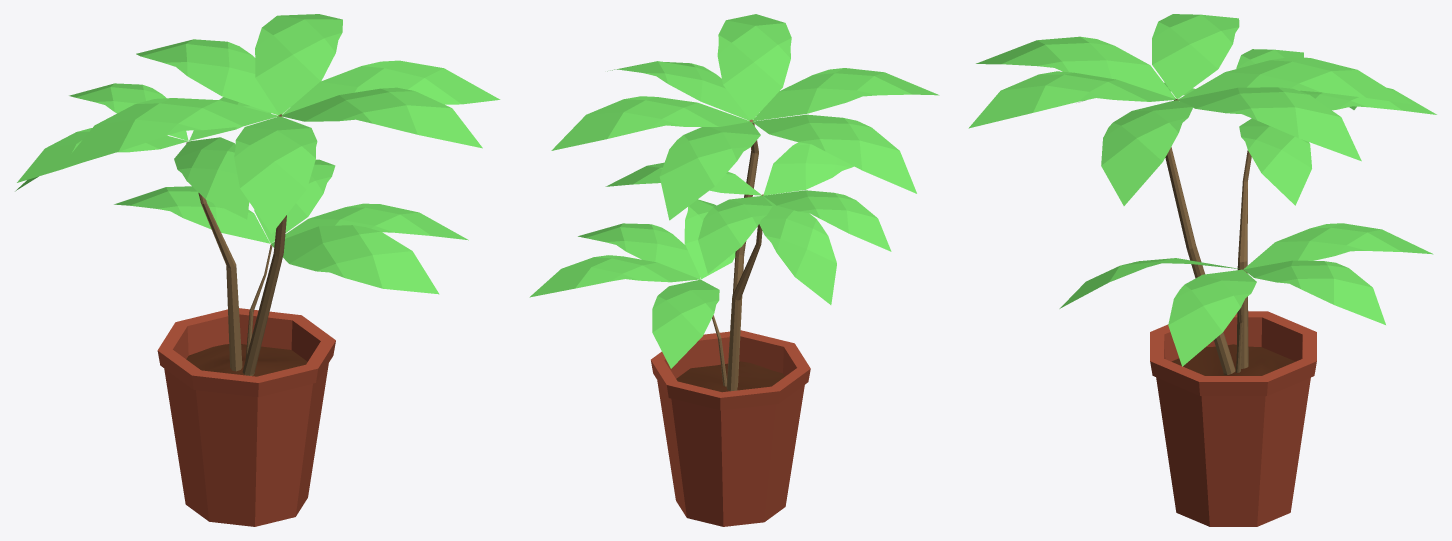
Rendered from Plant.glb.
The picture shows the model from 3 angles, left to right: view 1: azimuth 30°, elevation 25°; view 2: azimuth 150°, elevation 25°; view 3: azimuth 270°, elevation 25°; orthographic projection. The views are drawn at different scales.
Visible parts, largest first — view 1: leaf.004, pot, leaf.003, leaf.014, tige.001, tige.002; view 2: leaf.004, pot, leaf.014, leaf.003, tige.001, tige.002; view 3: leaf.004, pot, leaf.003, leaf.014, tige.002, tige.001.
Boxes of the visible parts, <box> form: leaf.004: <box>58,14,500,233</box>; pot: <box>157,308,335,526</box>; leaf.003: <box>114,159,468,294</box>; leaf.014: <box>15,83,293,219</box>; tige.001: <box>186,142,242,371</box>; tige.002: <box>242,114,286,375</box>; leaf.004: <box>551,14,939,220</box>; pot: <box>651,330,810,526</box>; leaf.014: <box>605,142,891,304</box>; leaf.003: <box>529,199,735,368</box>; tige.001: <box>726,194,763,391</box>; tige.002: <box>732,119,758,386</box>; leaf.004: <box>968,14,1413,205</box>; pot: <box>1150,311,1316,526</box>; leaf.003: <box>1059,223,1433,366</box>; leaf.014: <box>1078,49,1436,205</box>; tige.002: <box>1165,98,1235,374</box>; tige.001: <box>1236,150,1251,368</box>.
Bounding box in the file's own units: 0.4811 × 0.5101 × 0.4828.
